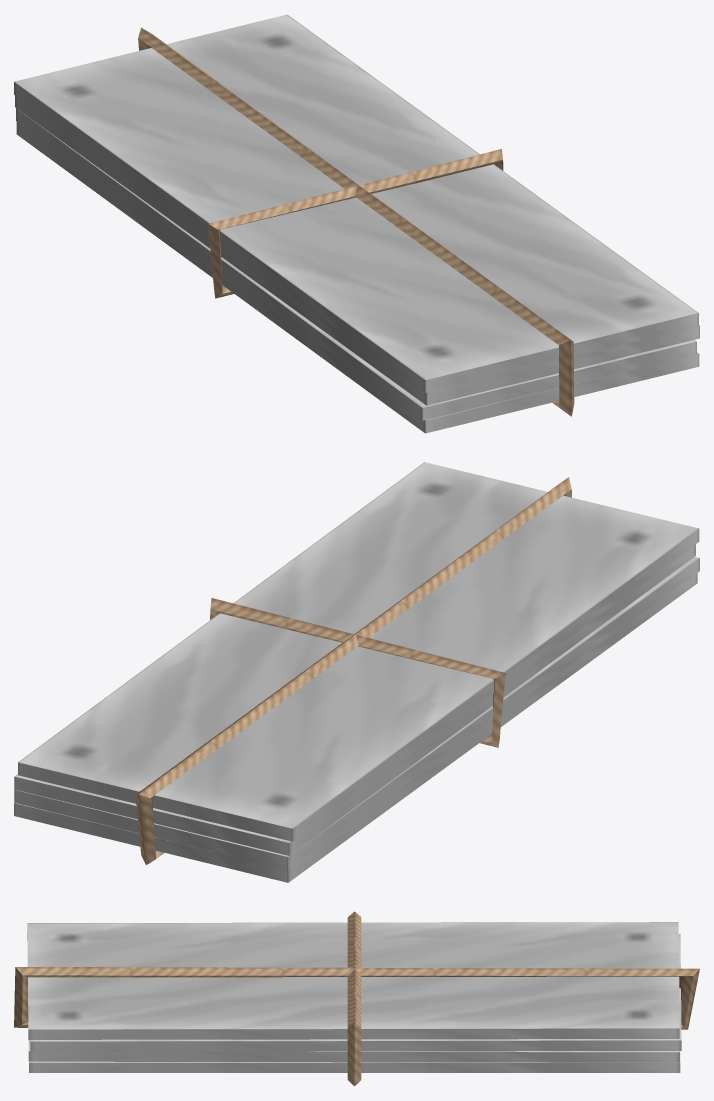
Rendered from stack_of_metal_sheets.fbx.
3 views of the same model, one above another, from view 1: azimuth 30°, elevation 25°; view 2: azimuth 150°, elevation 25°; view 3: azimuth 270°, elevation 25° (orthographic). The views are drawn at different scales.
Parts seen in each view (by area): view 1: MetalSheetStack; view 2: MetalSheetStack; view 3: MetalSheetStack.
Part boxes in pixels (x1,y1,x2,y2): MetalSheetStack: [14, 14, 699, 433]; MetalSheetStack: [14, 462, 699, 882]; MetalSheetStack: [14, 911, 699, 1086].
Size of the model in its own units: 0.2126 by 0.0545 by 0.5326.
